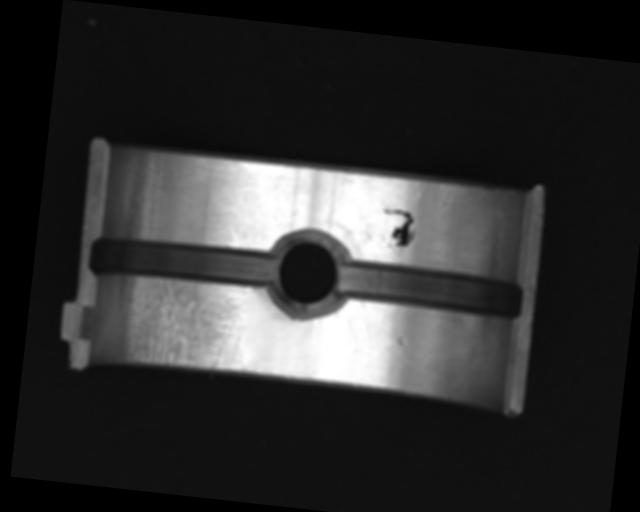blot: (377, 205, 419, 252)
bruise: (396, 336, 407, 346)
gap: (334, 257, 527, 323), (85, 233, 278, 292)
hole: (259, 226, 353, 323)
nick: (227, 227, 245, 249)
scratch: (112, 272, 256, 376)
